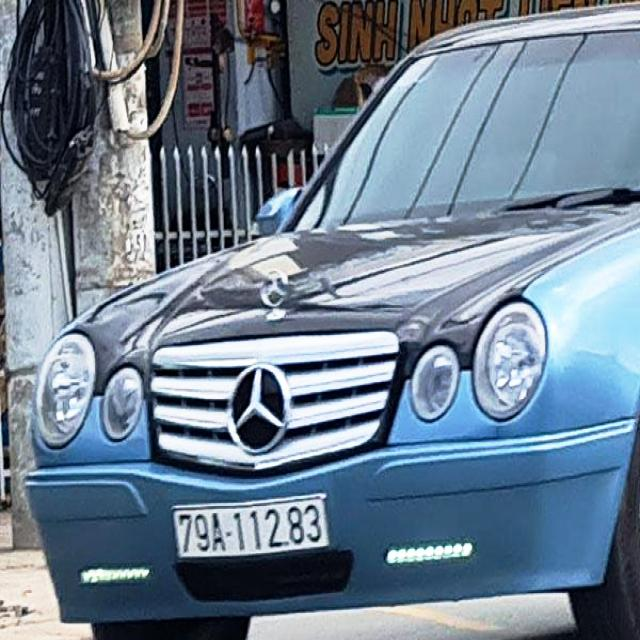license_plate: (176, 498, 331, 560)
